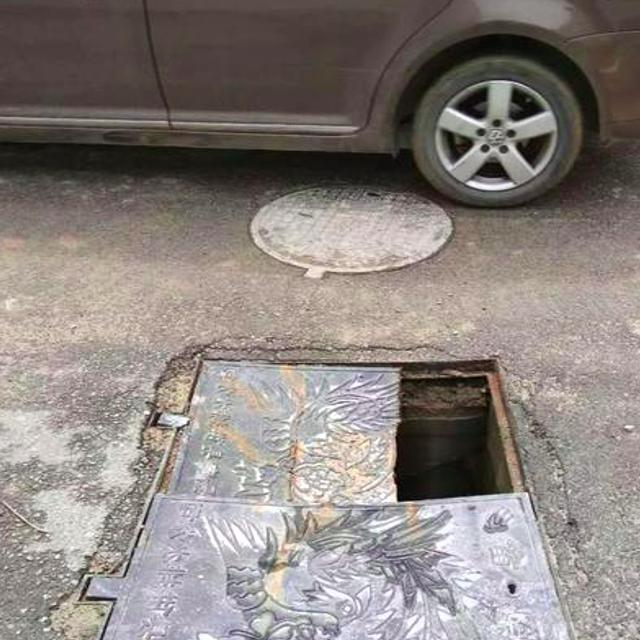broke: (36, 318, 618, 640)
